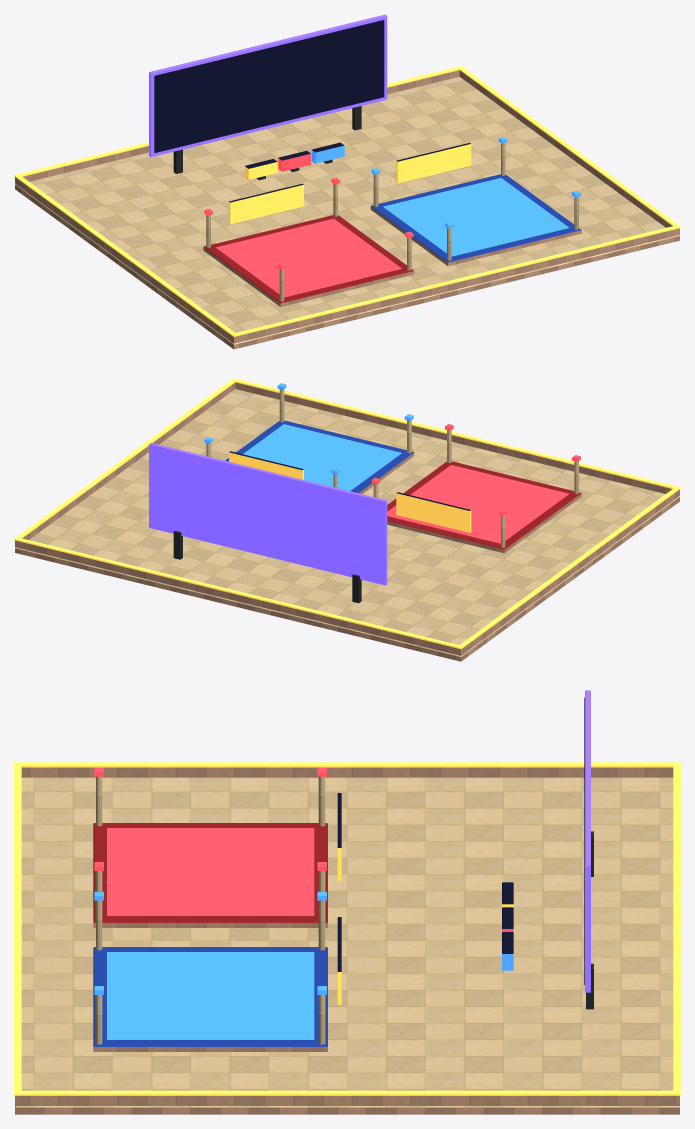
File: skyreach_lobby.glb
3 views of the same model, one above another, from view 1: azimuth 30°, elevation 25°; view 2: azimuth 150°, elevation 25°; view 3: azimuth 270°, elevation 25° (orthographic). The views are drawn at different scales.
Parts seen in each view (by area): view 1: skyreach_lobby; view 2: skyreach_lobby; view 3: skyreach_lobby.
Boxes of the visible parts, left/top/right/bottom form: skyreach_lobby: left=14, top=14, right=680, bottom=349; skyreach_lobby: left=14, top=378, right=680, bottom=661; skyreach_lobby: left=14, top=690, right=680, bottom=1114.
Size of the model in its own units: 40.1 by 9.7 by 34.1.
10 materials, 2 textured.
